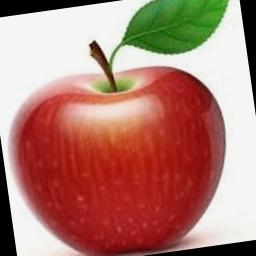Apple Ripe: (0, 50, 254, 256)
